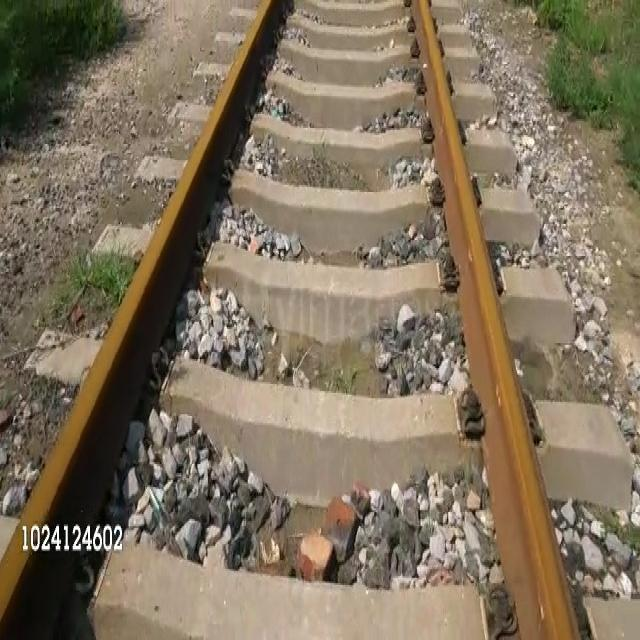Plant: (504, 0, 639, 193), (0, 0, 128, 140), (37, 249, 134, 312)
